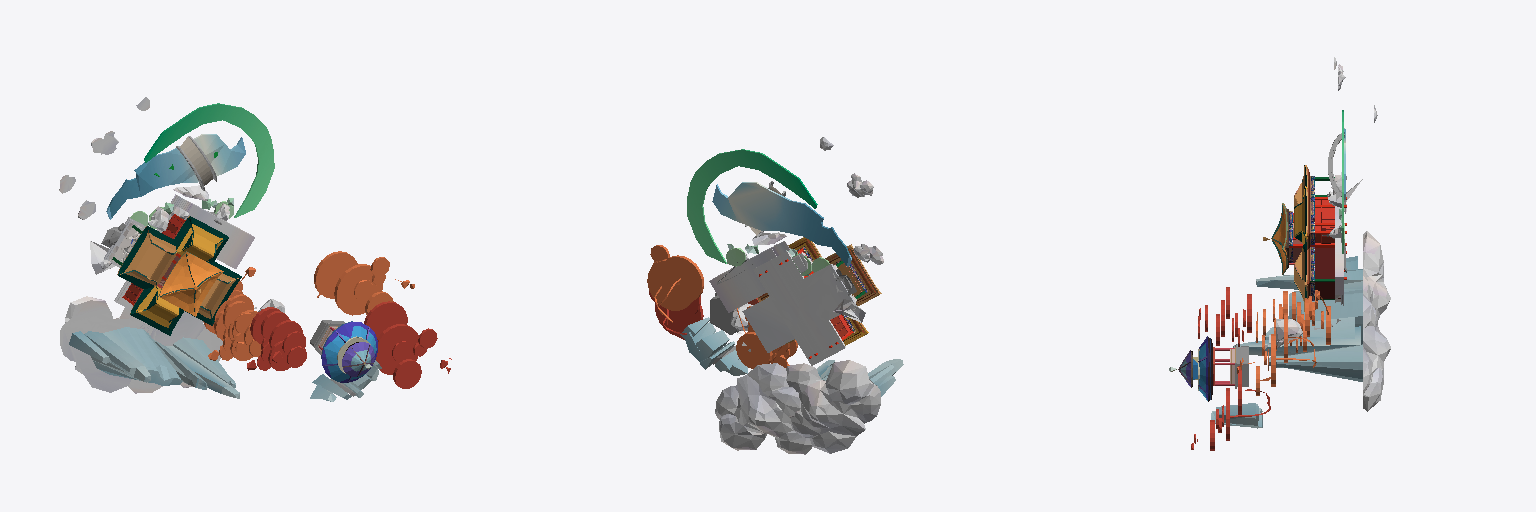
The picture shows the model from 3 angles: view 1: azimuth 30°, elevation 25°; view 2: azimuth 150°, elevation 25°; view 3: azimuth 270°, elevation 25°; orthographic projection.
Bounding box in the file's own units: 56.34 × 55.49 × 35.15.
71 materials, 7 textured.